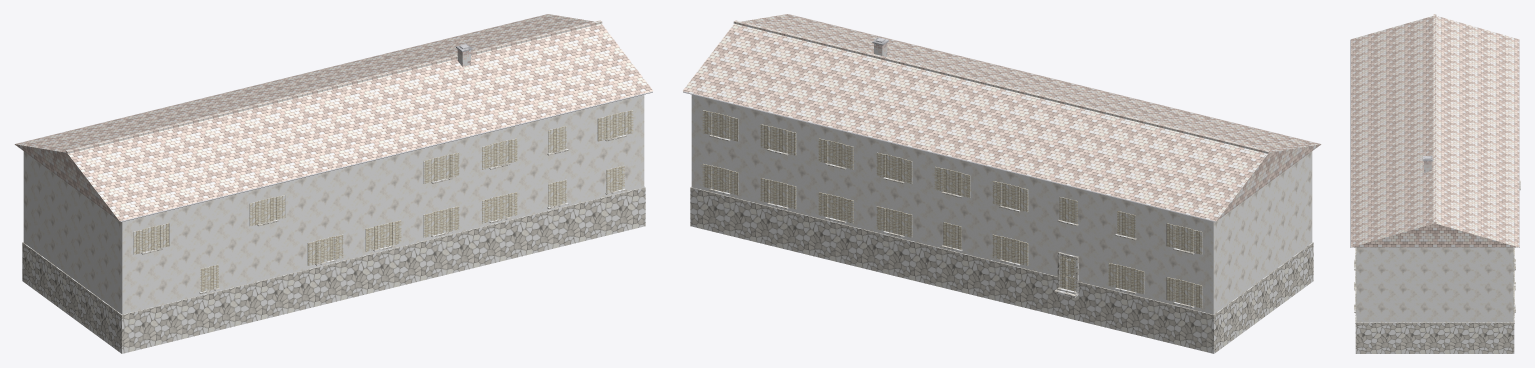
The picture shows the model from 3 angles, left to right: view 1: azimuth 30°, elevation 25°; view 2: azimuth 150°, elevation 25°; view 3: azimuth 270°, elevation 25°; orthographic projection. The views are drawn at different scales.
Visible parts, largest first — view 1: b1085384679; view 2: b1085384679; view 3: b1085384679.
Part boxes in pixels (left/top/right/bottom): b1085384679: left=14, top=14, right=652, bottom=353; b1085384679: left=683, top=14, right=1321, bottom=353; b1085384679: left=1350, top=14, right=1520, bottom=353.
Size of the model in its own units: 32.28 by 10.38 by 11.16.
18 materials, 18 textured.
